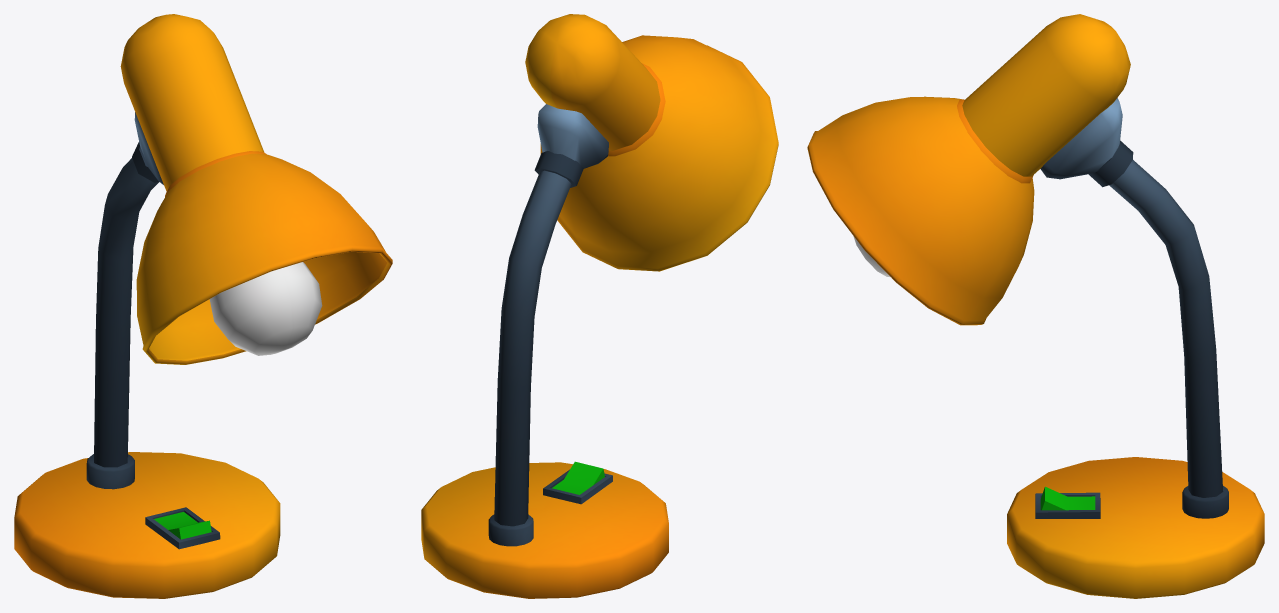
The model's file is Lamp1.fbx.
3 renders of one model, left to right at view 1: azimuth 30°, elevation 25°; view 2: azimuth 150°, elevation 25°; view 3: azimuth 270°, elevation 25°, orthographic. The views are drawn at different scales.
Parts seen in each view (by area): view 1: Lamp1_1, Lamp1_2, Lamp1_3; view 2: Lamp1_1; view 3: Lamp1_1.
Boxes of the visible parts, bbox=[...] form: Lamp1_1: bbox=[14, 14, 392, 598]; Lamp1_2: bbox=[209, 269, 291, 355]; Lamp1_3: bbox=[274, 262, 322, 353]; Lamp1_1: bbox=[421, 14, 778, 598]; Lamp1_1: bbox=[807, 14, 1264, 598].
Size of the model in its own units: 575 by 1282 by 1010.
